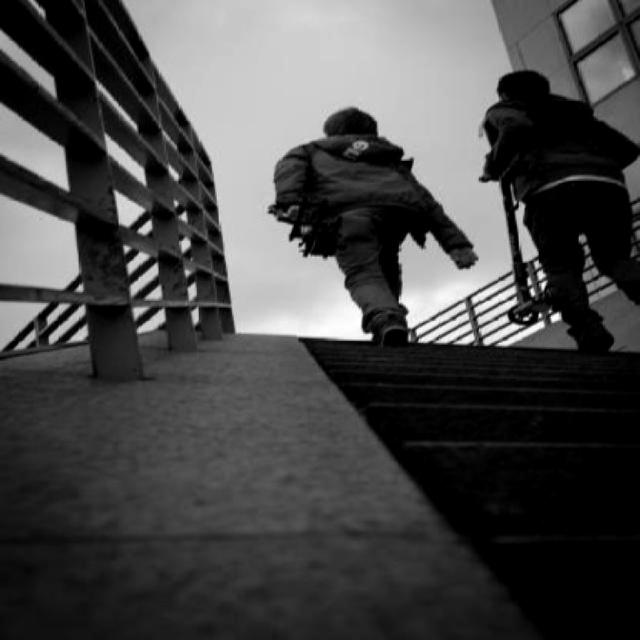stair: (297, 338, 640, 640)
